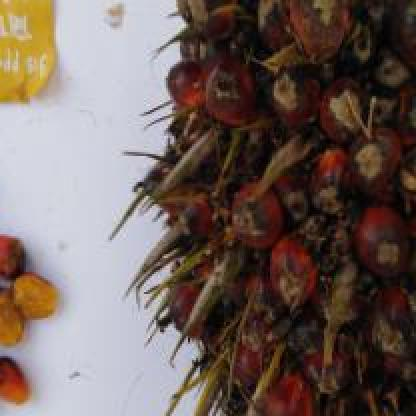underripe: (148, 0, 416, 416)
